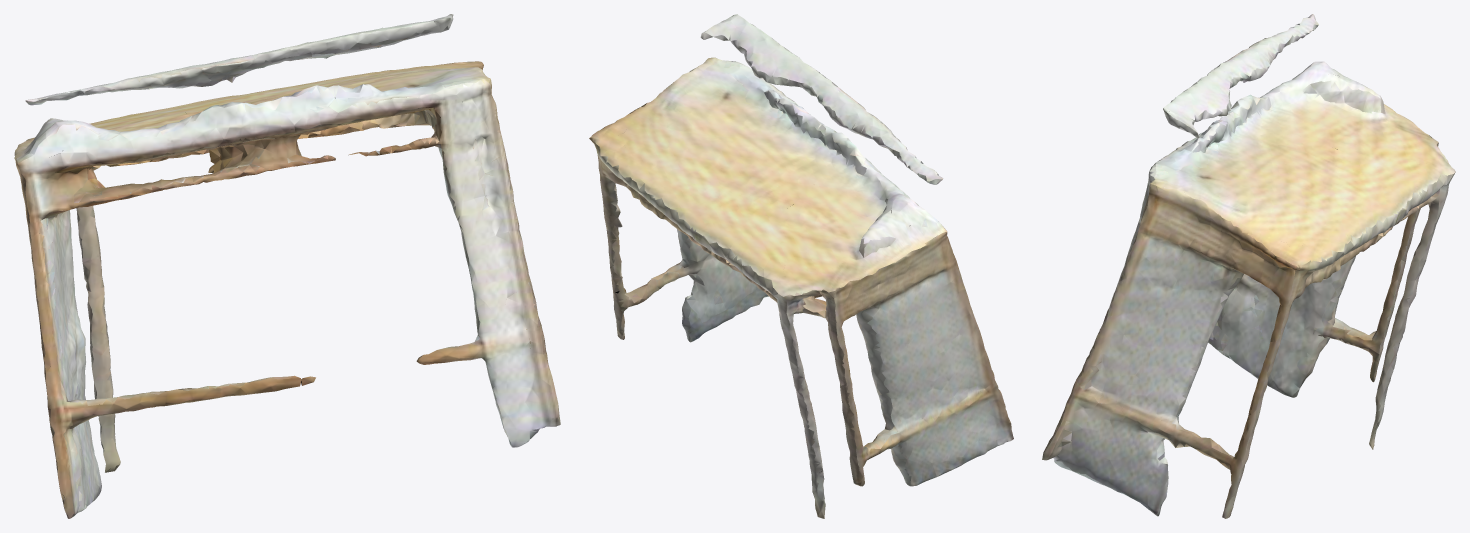
The model's file is desk_beteshäst_80619804.glb.
3 views of the same model, side by side, from view 1: azimuth 30°, elevation 25°; view 2: azimuth 150°, elevation 25°; view 3: azimuth 270°, elevation 25° (orthographic). The views are drawn at different scales.
Visible parts, largest first — view 1: world; view 2: world; view 3: world.
Part boxes in pixels (left/top/right/bottom): world: left=14, top=14, right=560, bottom=518; world: left=589, top=14, right=1013, bottom=518; world: left=1042, top=14, right=1455, bottom=518.
Size of the model in its own units: 1.03 by 1 by 0.8585.
1 material, 1 textured.
